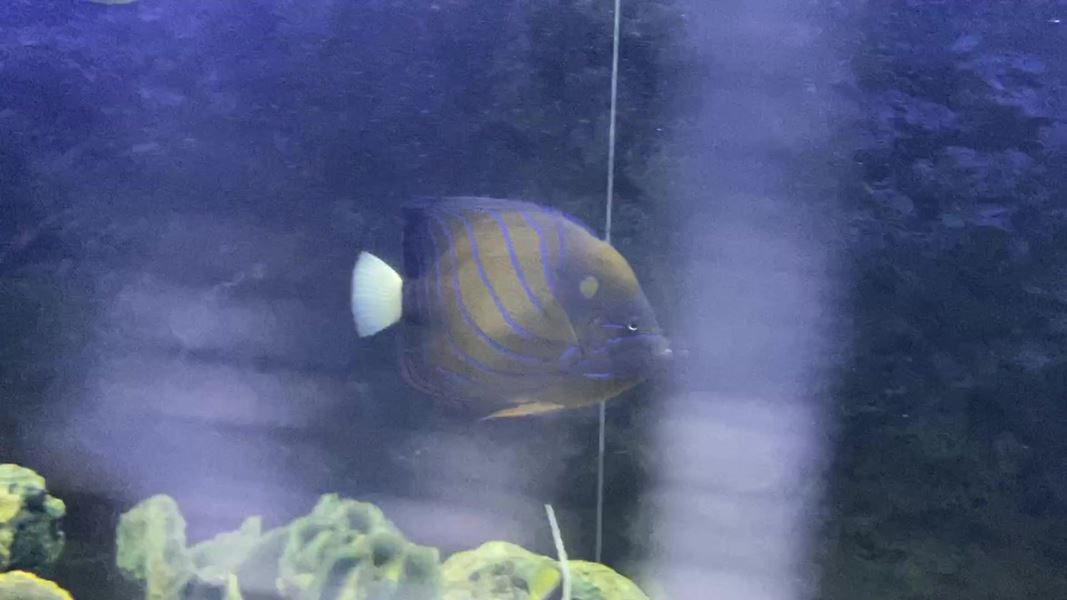Blue ring angelfish: (333, 185, 696, 462)
